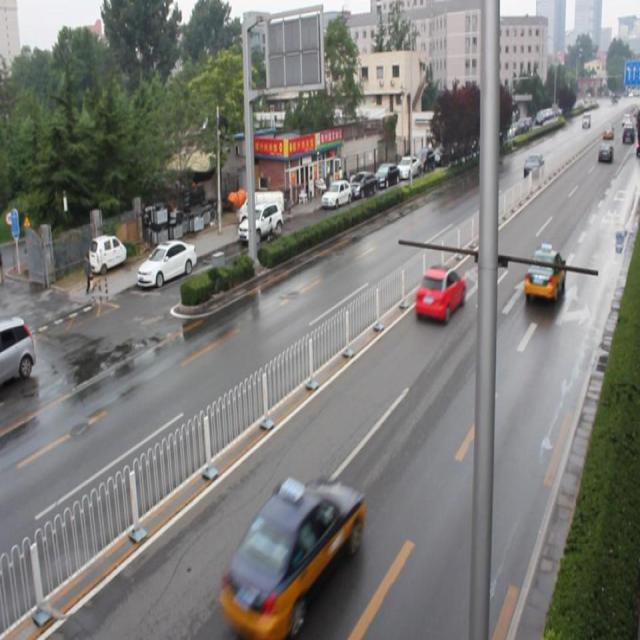car: (218, 477, 364, 618), (415, 262, 465, 326), (524, 244, 564, 304)
